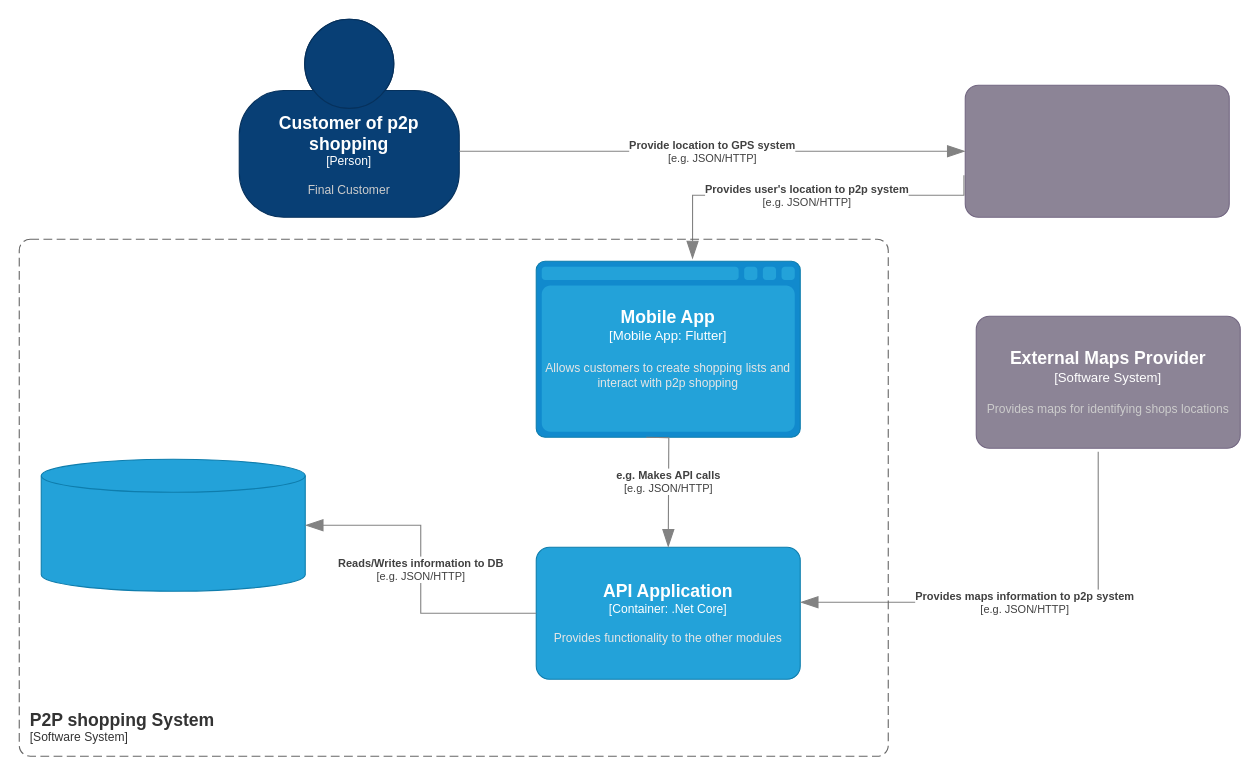
The diagram is 1260 pixels wide and 776 high, and some of its shapes have lost their labels. Each missing label, with the box of its shape:
Database [Container: Oracle Database 12] Stores information for p2p system: (40, 458, 305, 591)
GPS localisation [Software System] Allows mobile localisation: (964, 84, 1229, 217)
